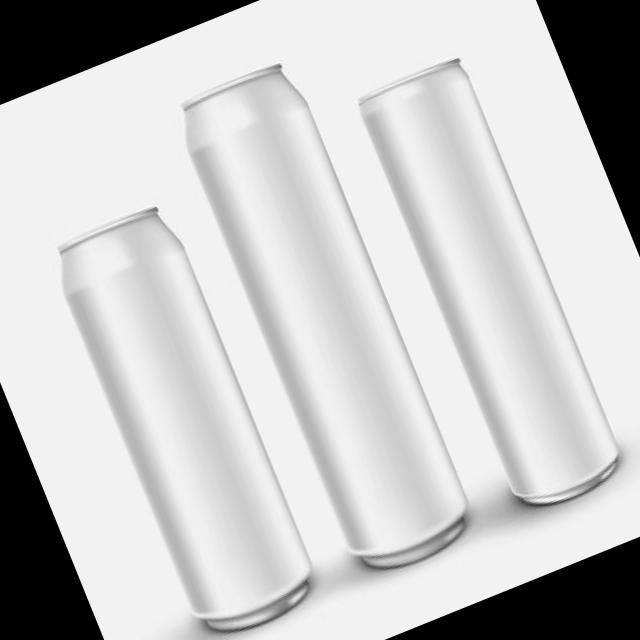Kaleng: (168, 54, 484, 584), (351, 51, 631, 518), (43, 197, 327, 640)
